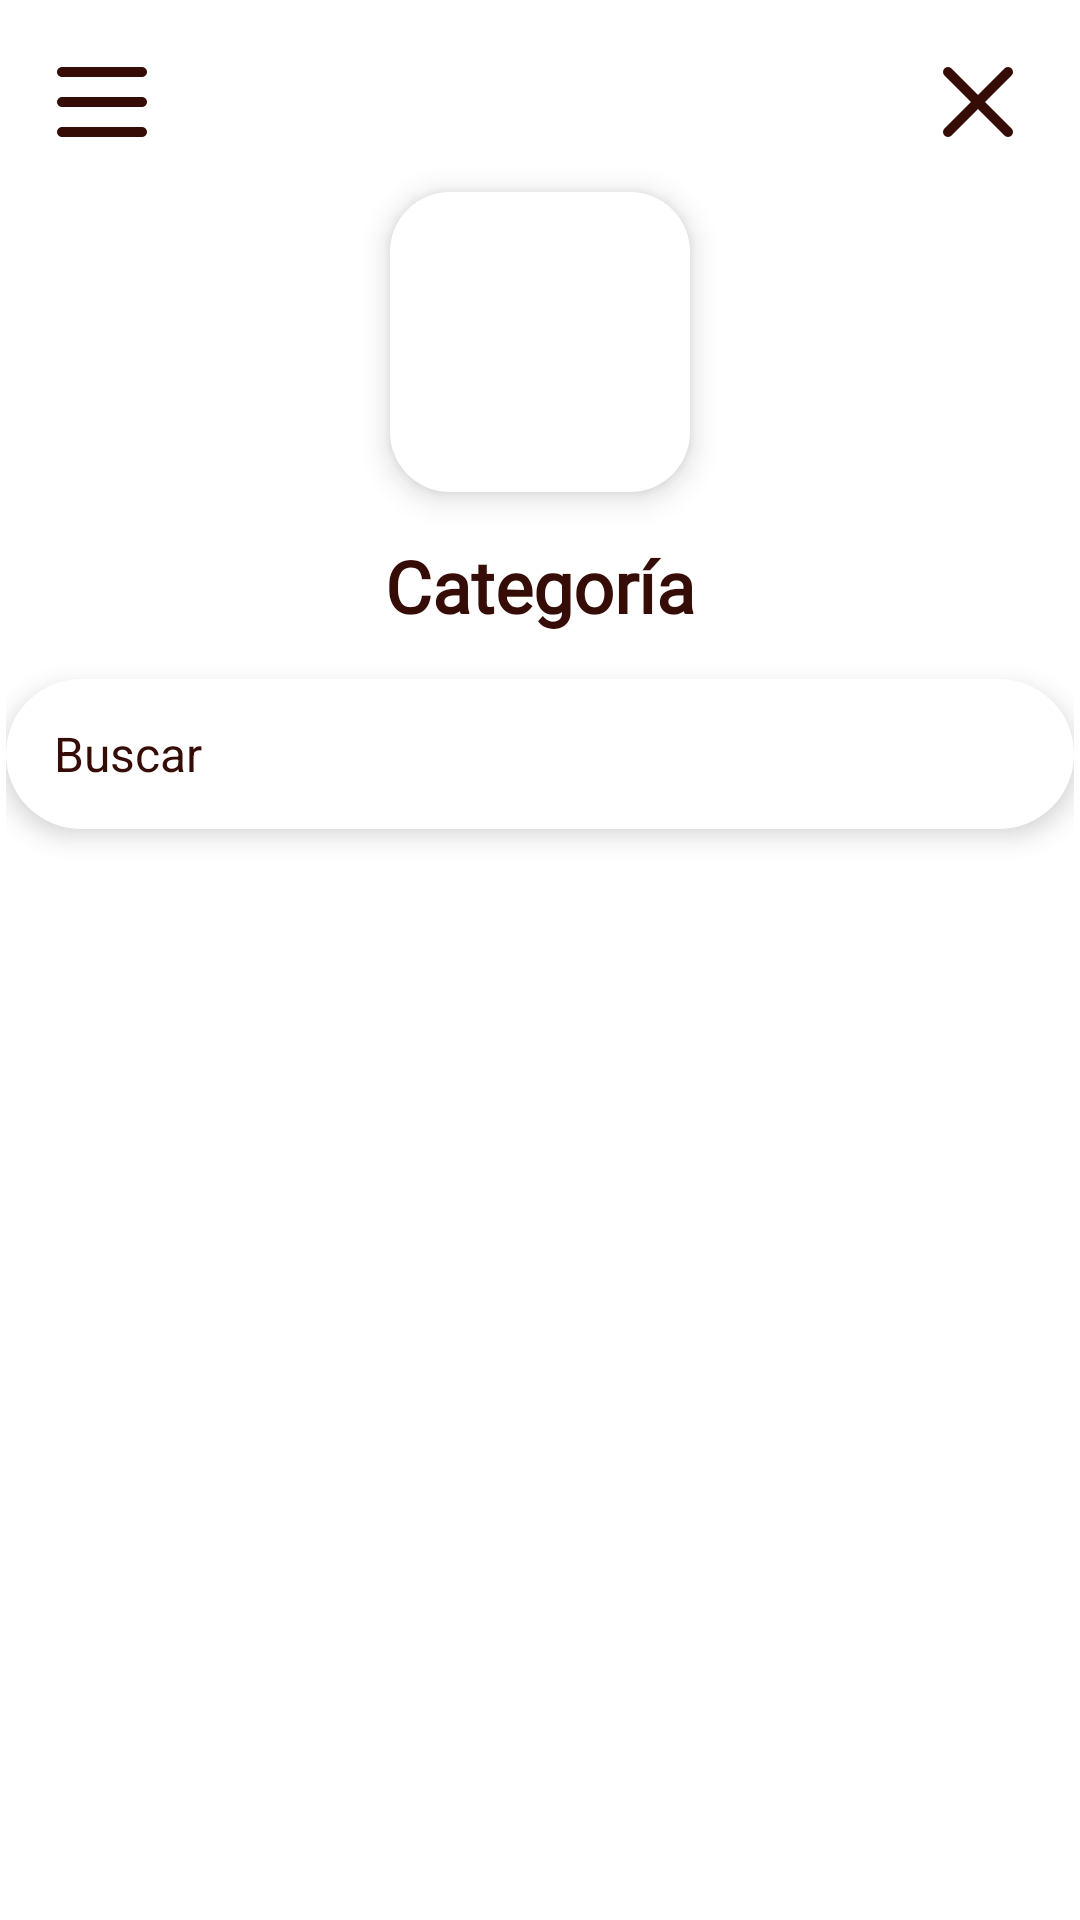

Screen size 1080w x 1920h. Icon name, then its box in pixels as (x1, y1, x2, y2):
close: (943, 67, 1013, 137)
menu: (57, 67, 147, 137)
